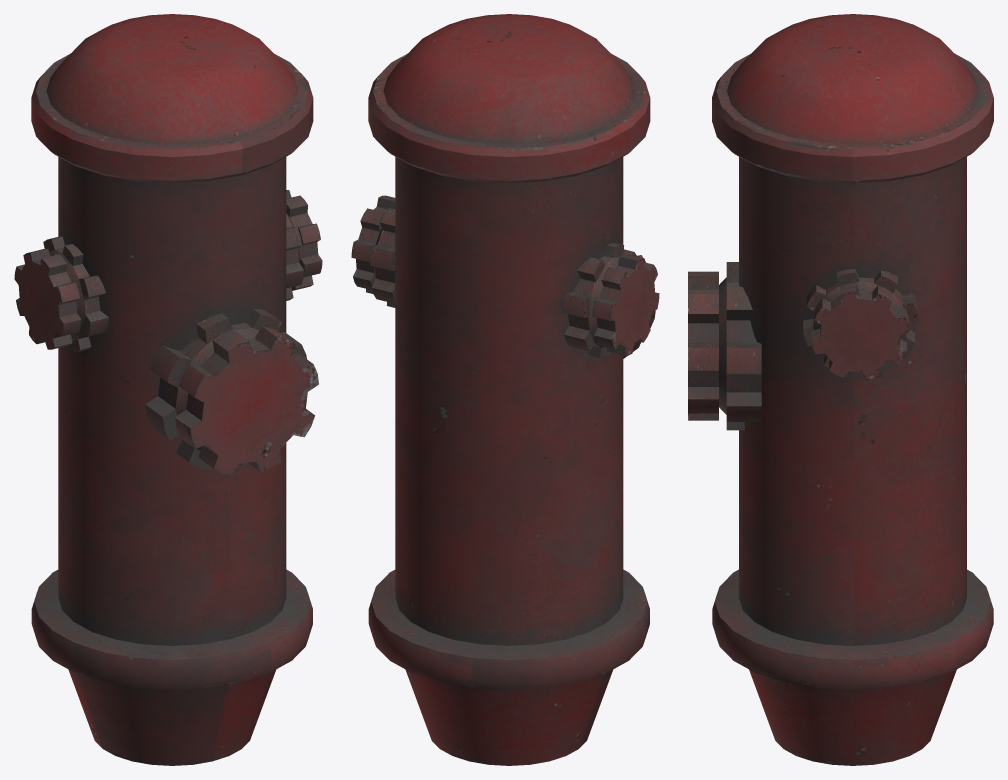
File: Hydrant.fbx
3 renders of one model, left to right at view 1: azimuth 30°, elevation 25°; view 2: azimuth 150°, elevation 25°; view 3: azimuth 270°, elevation 25°, orthographic.
Parts seen in each view (by area): view 1: Cylinder; view 2: Cylinder; view 3: Cylinder.
Part boxes in pixels (<box>): Cylinder: <box>14,14,322,765</box>; Cylinder: <box>351,14,659,765</box>; Cylinder: <box>688,14,993,765</box>.
Bounding box in the file's own units: 37.53 × 95.35 × 38.4.
1 material, 1 textured.
